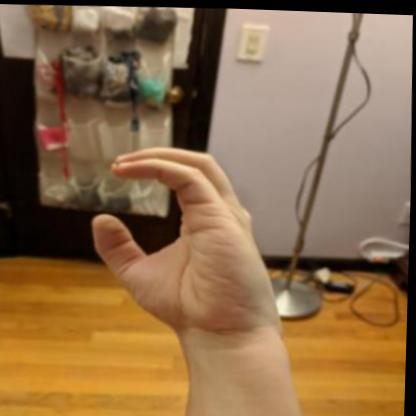C: (82, 134, 292, 346)
